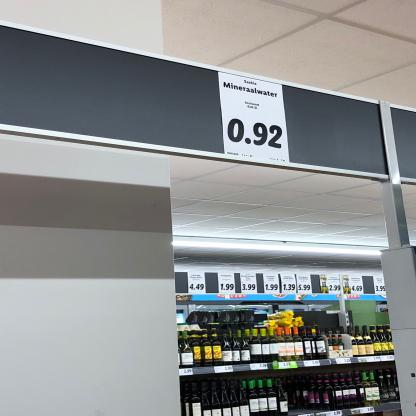prtg: (219, 73, 291, 164)
